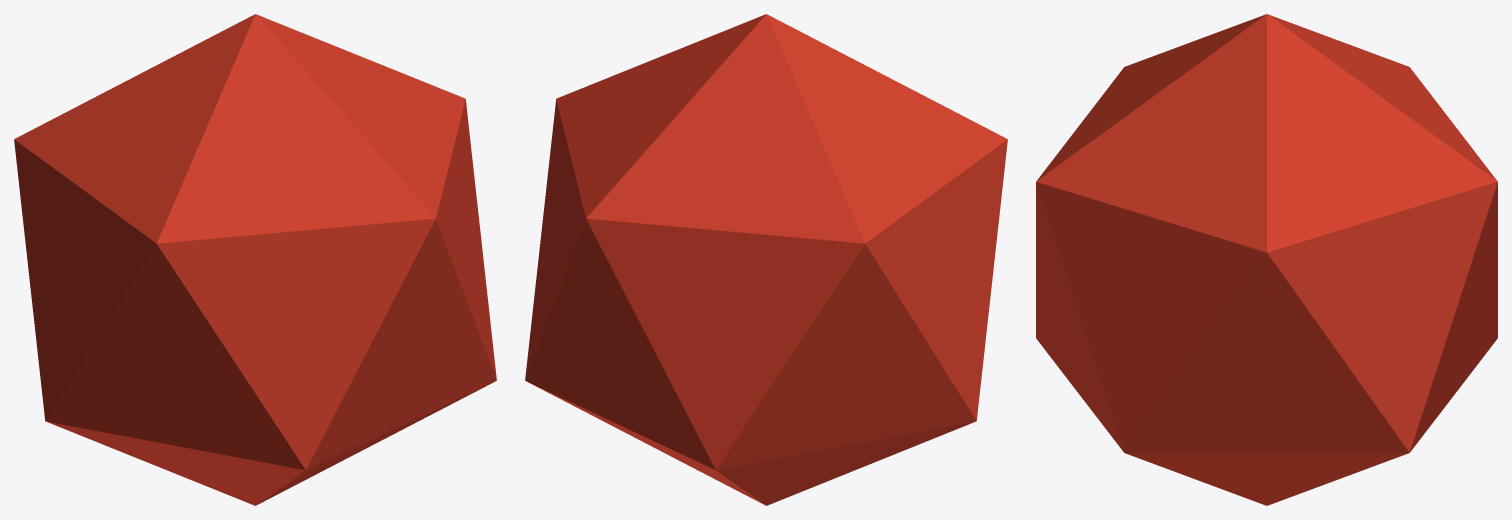
File: bullet.obj
The picture shows the model from 3 angles, left to right: view 1: azimuth 30°, elevation 25°; view 2: azimuth 150°, elevation 25°; view 3: azimuth 270°, elevation 25°; orthographic projection.
Parts seen in each view (by area): view 1: Icosphere.001; view 2: Icosphere.001; view 3: Icosphere.001.
Boxes of the visible parts, x1,y1,x2,y2 form: Icosphere.001: (14,14,496,505); Icosphere.001: (525,14,1007,505); Icosphere.001: (1036,14,1497,505).
Bounding box in the file's own units: 2.33 × 2.6 × 2.21.
